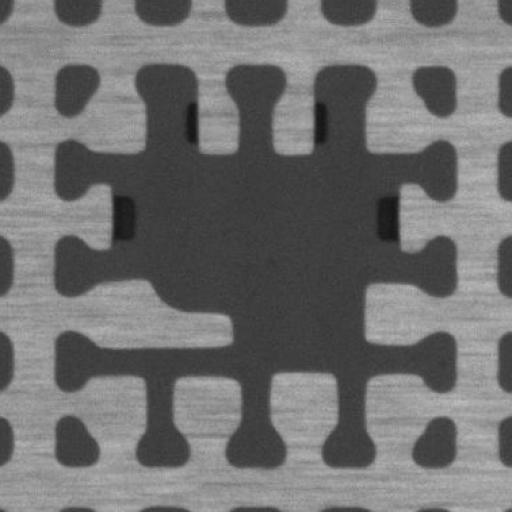NO_DIE: (53, 65, 458, 469)
